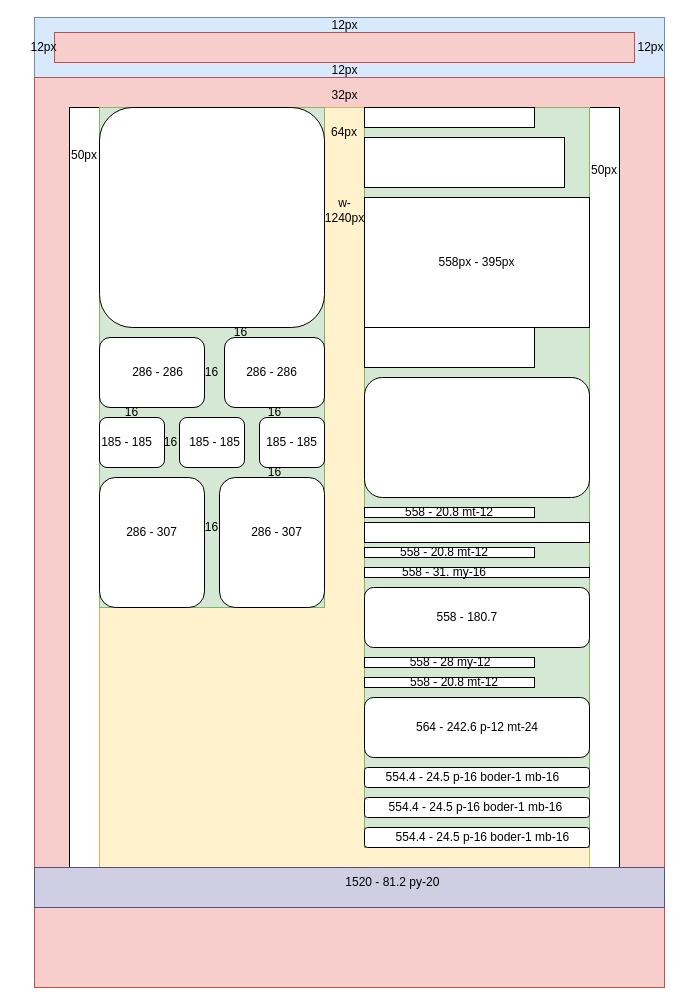
This 694x1005 diagram has some shape labels left out. The centre of each missing label's shape, as x and y in pixels:
1496px: [344,47]
338 - 60 pt-8px, pb-10px: [449,347]
558 - 117.6px my-16px: [464,162]
558 - 20.8px mb-16px: [449,117]
558px- 558px: [211,217]
564 - 32.4 p-12, mt-12: [477,532]
564 - 493.5 p-12 , mt-24, mb-16: [477,437]
